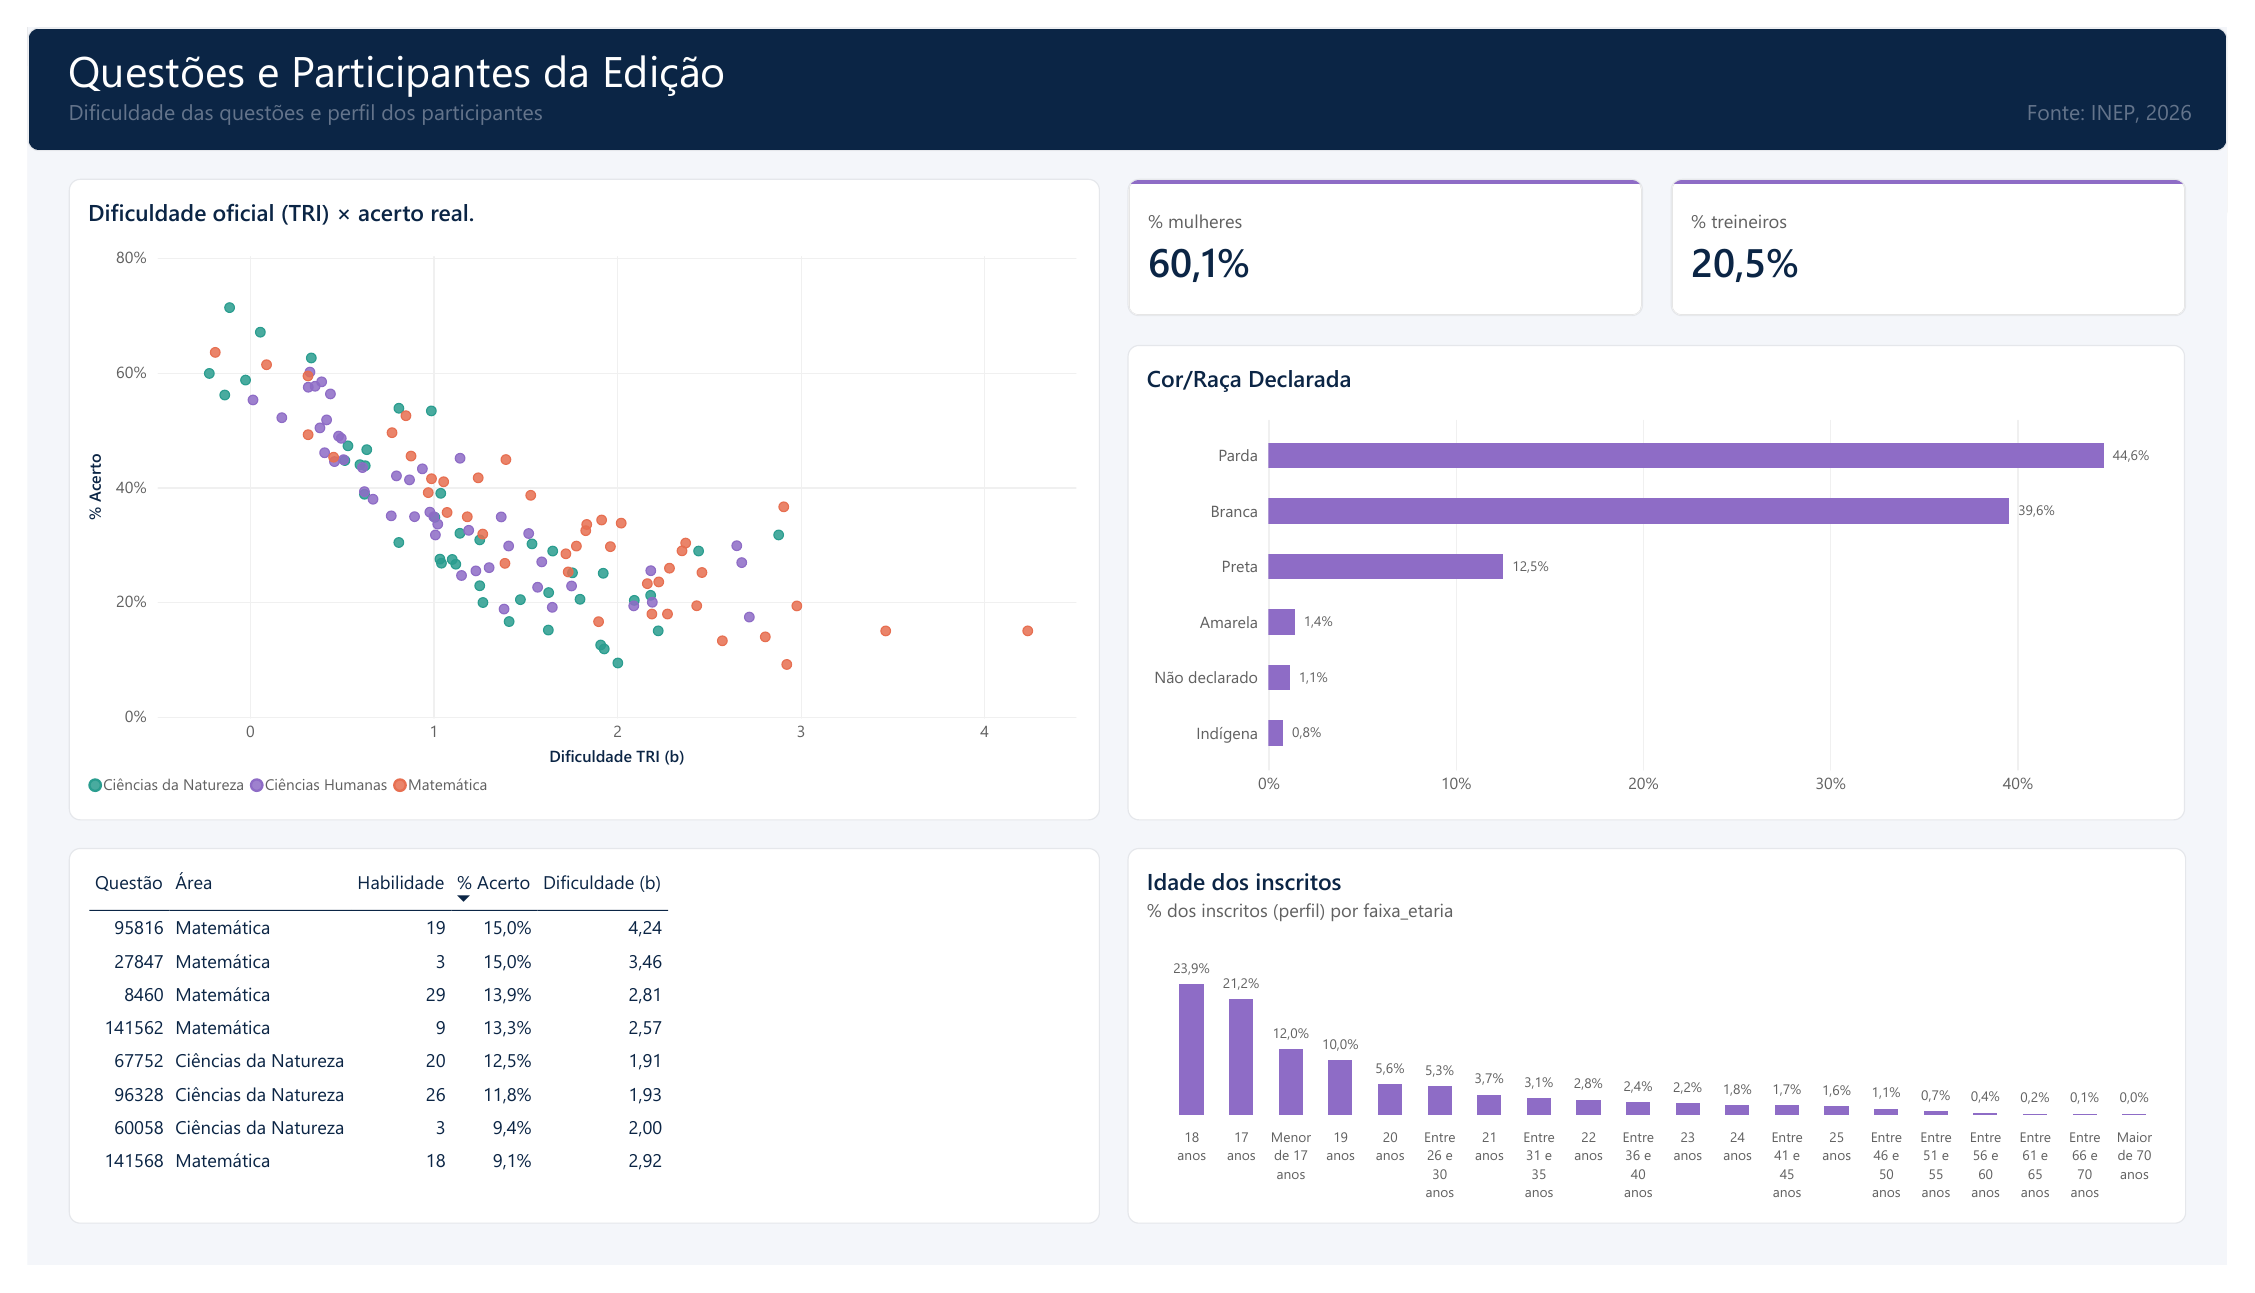

This screenshot's page, from the dashboard's own definition file:
{"tool":"powerbi","page":{"name":"Questões e Participantes","canvas":[1920,1080],"ordinal":3},"visuals":[{"type":"shape","box":[0,0,1920,108],"z":0},{"type":"textbox","box":[35.5,11.8,1855.7,82.9],"z":1000},{"type":"scatterChart","title":"Dificuldade oficial (TRI) × acerto real.","fields":{"Category":["fato_itens.CO_ITEM"],"Series":["dim_area.area"],"X":["_Medidas.Dificuldade TRI (b)"],"Y":["_Medidas.% Acerto"]},"box":[36,132,900,560],"z":2000},{"type":"tableEx","fields":{"Values":["fato_itens.CO_ITEM","dim_area.area","fato_itens.CO_HABILIDADE","_Medidas.% Acerto","_Medidas.Dificuldade TRI (b)"]},"box":[36,716,900,328],"z":3000},{"type":"cardVisual","fields":{"Data":["_Medidas.% mulheres"]},"box":[960,132,450,120],"z":4000},{"type":"cardVisual","fields":{"Data":["_Medidas.% treineiros"]},"box":[1434,132,450,120],"z":5000},{"type":"clusteredBarChart","title":"Cor/Raça Declarada","fields":{"Category":["dim_cor_raca.cor_raca"],"Y":["_Medidas.% dos inscritos (perfil)"]},"box":[960,276.7,923.3,415],"z":6000},{"type":"columnChart","title":"Idade dos inscritos","fields":{"Category":["dim_faixa_etaria.faixa_etaria"],"Y":["_Medidas.% dos inscritos (perfil)"]},"box":[960,716,924,328],"z":6001}]}

Visuals, with their boxes in screenshot pixels (x1, y1, x2, y2), scaled from the page's 1920x1080 canvas onto the 2255x1293 screenshot:
shape: Rect(0, 0, 2254, 129)
textbox: Rect(42, 14, 2221, 113)
"Dificuldade oficial (TRI) × acerto real." scatterChart: Rect(42, 158, 1099, 828)
tableEx - fato_itens.CO_ITEM x dim_area.area: Rect(42, 857, 1099, 1250)
cardVisual - _Medidas.% mulheres: Rect(1128, 158, 1656, 302)
cardVisual - _Medidas.% treineiros: Rect(1684, 158, 2213, 302)
"Cor/Raça Declarada" clusteredBarChart: Rect(1128, 331, 2212, 828)
"Idade dos inscritos" columnChart: Rect(1128, 857, 2213, 1250)
